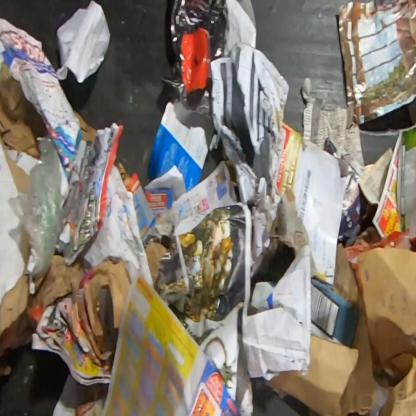cardboard: (274, 120, 348, 286), (0, 63, 50, 304), (0, 273, 30, 339)
soft_plastic: (7, 136, 68, 285)
